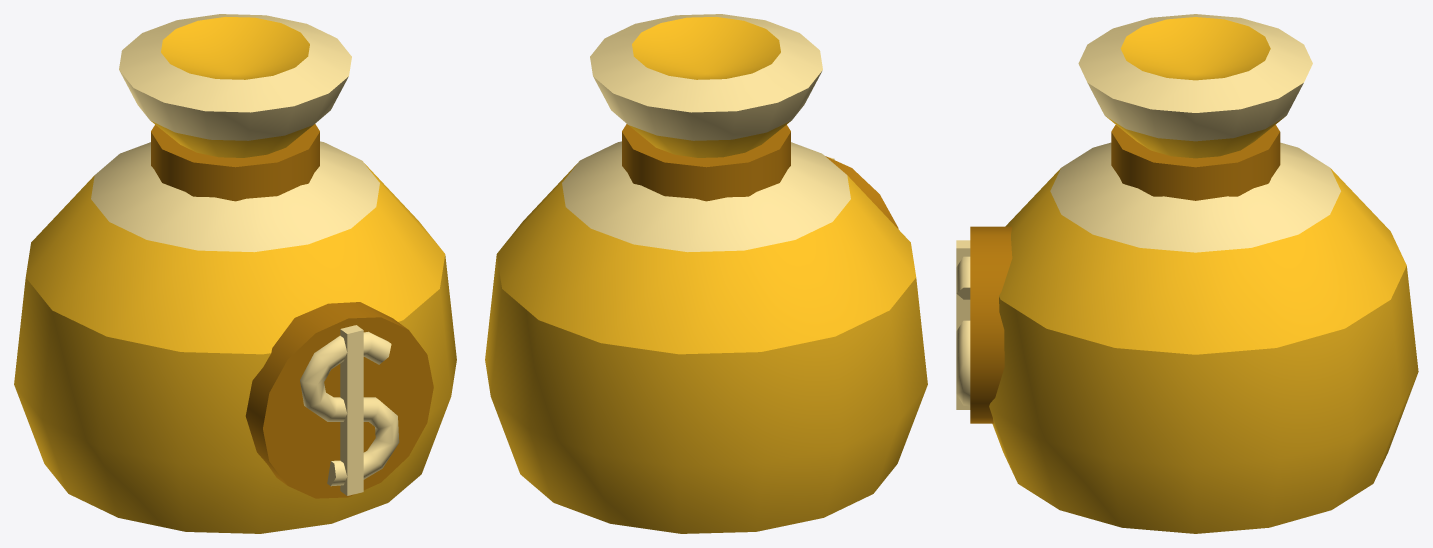
File: CashBag.fbx
3 views of the same model, side by side, from view 1: azimuth 30°, elevation 25°; view 2: azimuth 150°, elevation 25°; view 3: azimuth 270°, elevation 25° (orthographic).
Parts seen in each view (by area): view 1: CashBag; view 2: CashBag; view 3: CashBag.
Boxes of the visible parts, box(x1,y1,x2,y2) form: CashBag: box(14, 14, 456, 533); CashBag: box(485, 14, 927, 533); CashBag: box(956, 14, 1418, 533).
Bounding box in the file's own units: 1.9 × 2.02 × 1.97.
1 material, 1 textured.
